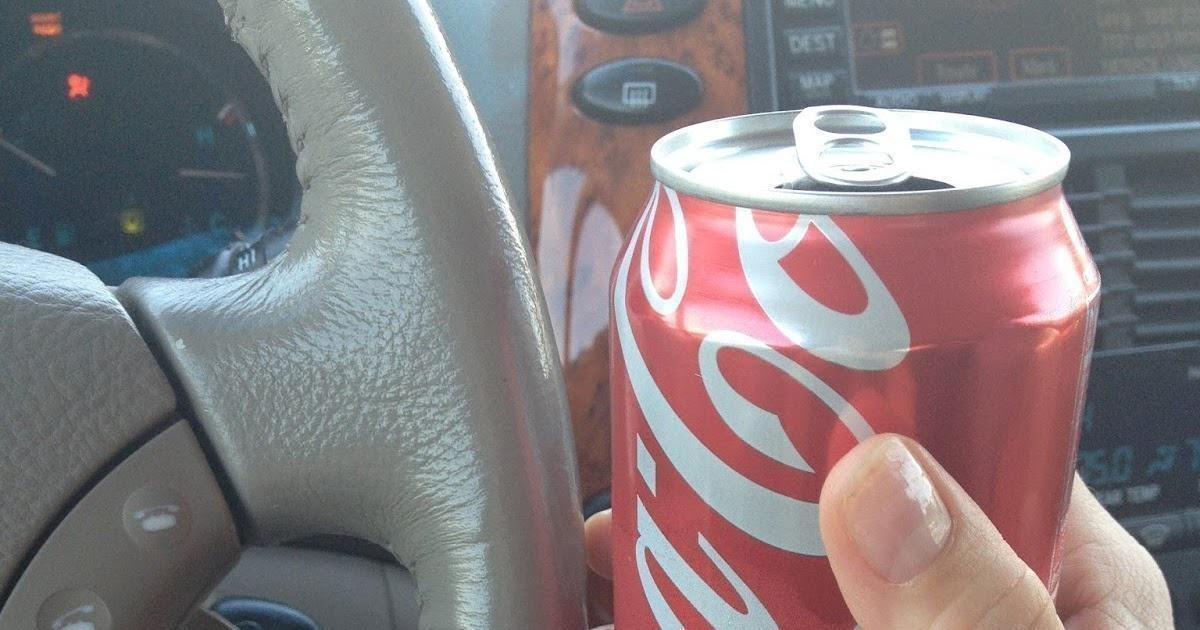tin can: (607, 102, 1102, 627)
